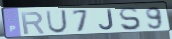7: (71, 9, 90, 33)
9: (145, 6, 165, 30)
J: (98, 9, 116, 32)
R: (20, 11, 47, 35)
S: (118, 6, 143, 32)
U: (45, 9, 69, 34)
